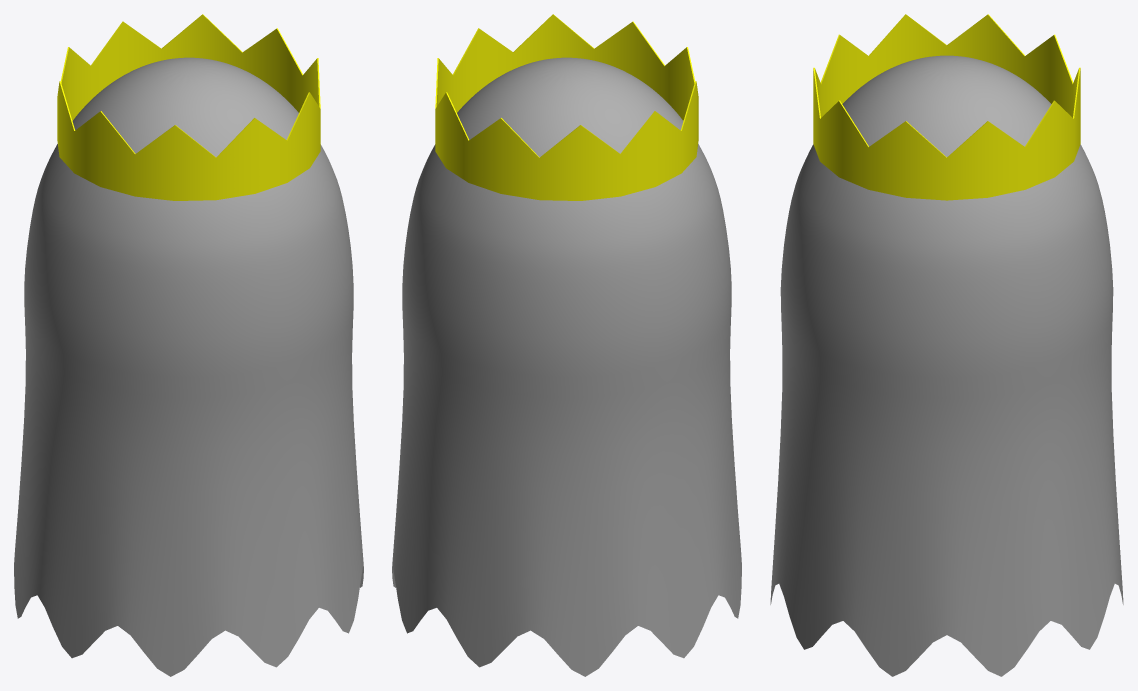
The model's file is ghostboss.fbx.
3 renders of one model, left to right at view 1: azimuth 30°, elevation 25°; view 2: azimuth 150°, elevation 25°; view 3: azimuth 270°, elevation 25°, orthographic.
Parts seen in each view (by area): view 1: pSphere1, pCylinder1; view 2: pSphere1, pCylinder1; view 3: pSphere1, pCylinder1.
Boxes of the visible parts, left/top/right/bottom form: pSphere1: left=14, top=57, right=363, bottom=676; pCylinder1: left=57, top=14, right=320, bottom=200; pSphere1: left=392, top=57, right=741, bottom=676; pCylinder1: left=435, top=14, right=698, bottom=200; pSphere1: left=770, top=55, right=1123, bottom=676; pCylinder1: left=813, top=14, right=1080, bottom=200.
Bounding box in the file's own units: 2.67 × 4.5 × 2.67.
